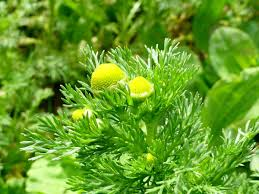pineple: (79, 44, 204, 133)
